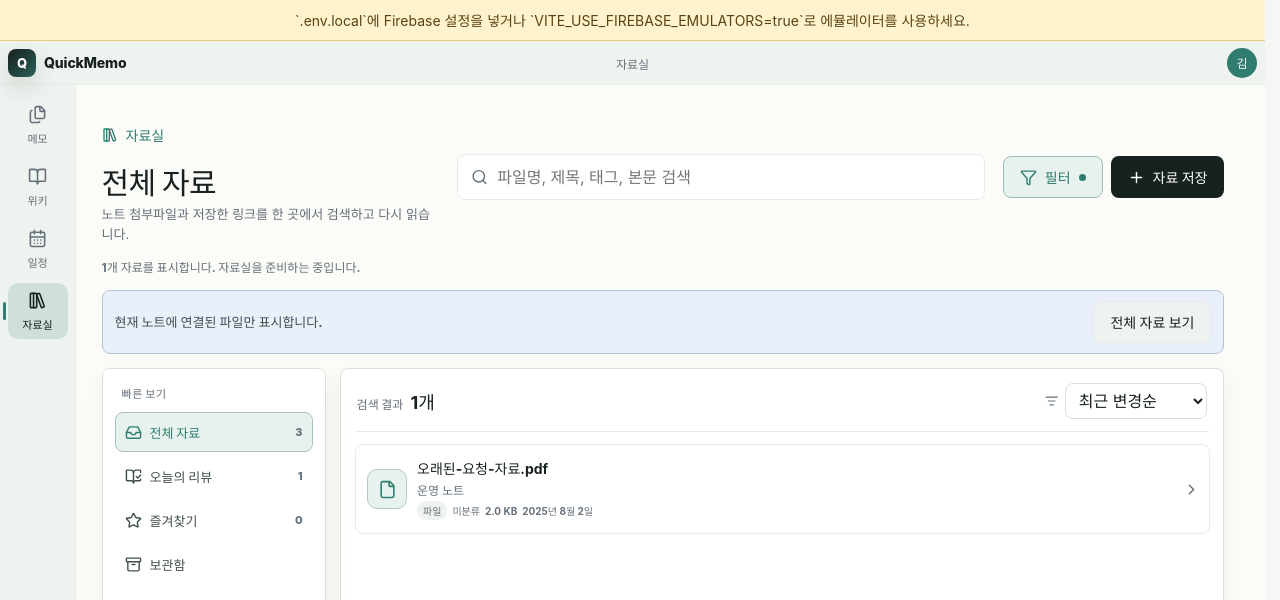
LibraryPage › loads a specifically requested old note, filters to its attachments, and clears the source-note filter
This screenshot has width=1280, height=600.
Expected: the button with aria-label "오래된-요청-자료.pdf 열기" is shown, [356,445,1208,533]
Expected: the text "현재 노트에 연결된 파일만 표시합니다." is shown, [115,313,323,332]
Click the button "전체 자료 보기".
click(1152, 322)  # box [1094,301,1211,343]
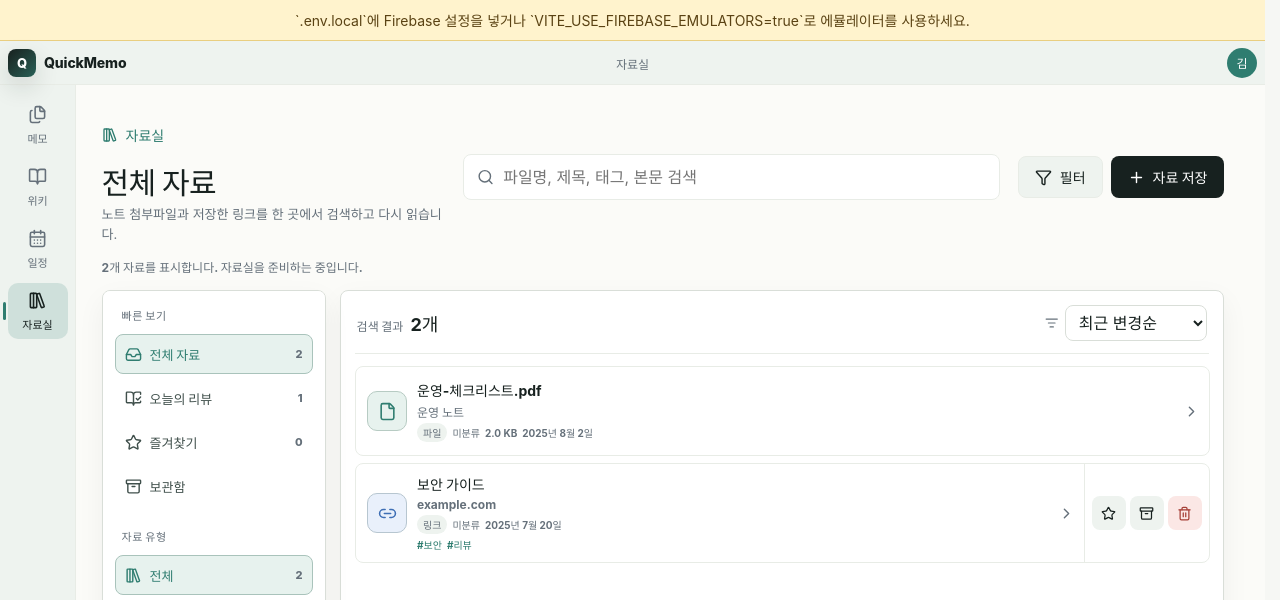
Expected: the button with aria-label "운영-체크리스트.pdf 열기" is shown, [356,367,1208,455]
Expected: the button with aria-label "보안 가이드 열기" is shown, [356,464,1083,562]
Expected: the text "현재 노트에 연결된 파일만 표시합니다." is gone
